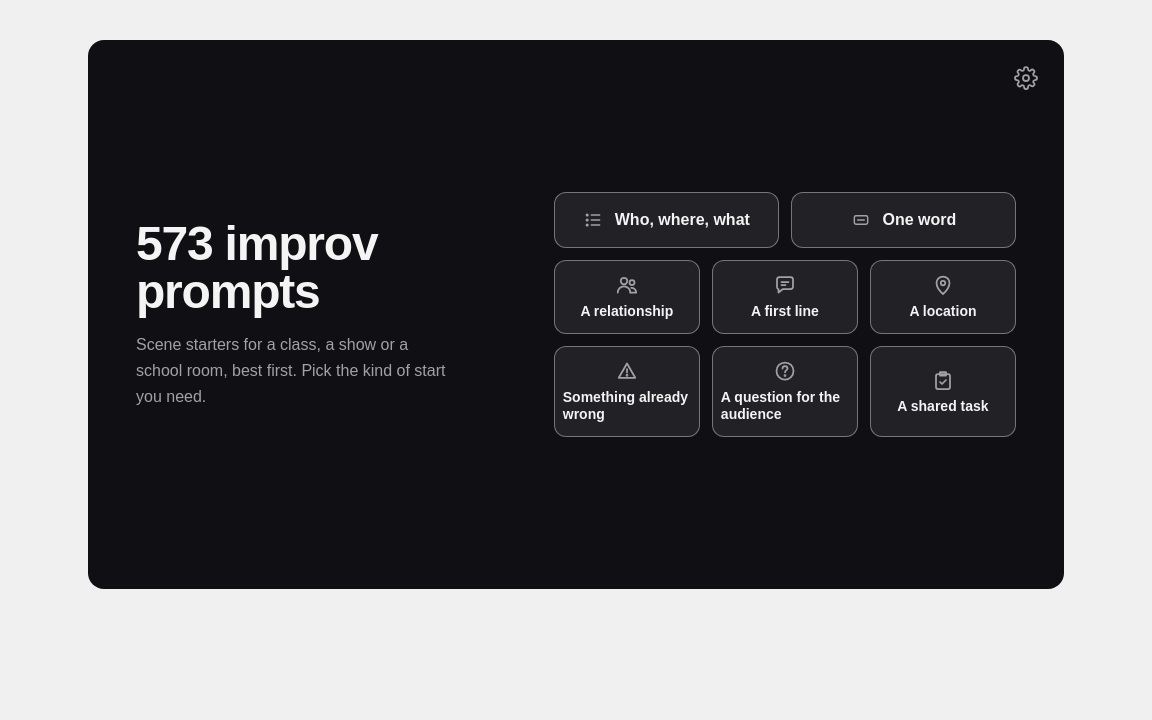
Test case: PromptGenerator › opens the settings from the cog, and Done goes back to the question or the card
Click the button named "Settings".
click(1026, 78)  # box [1004,56,1048,100]
(page scrolled)
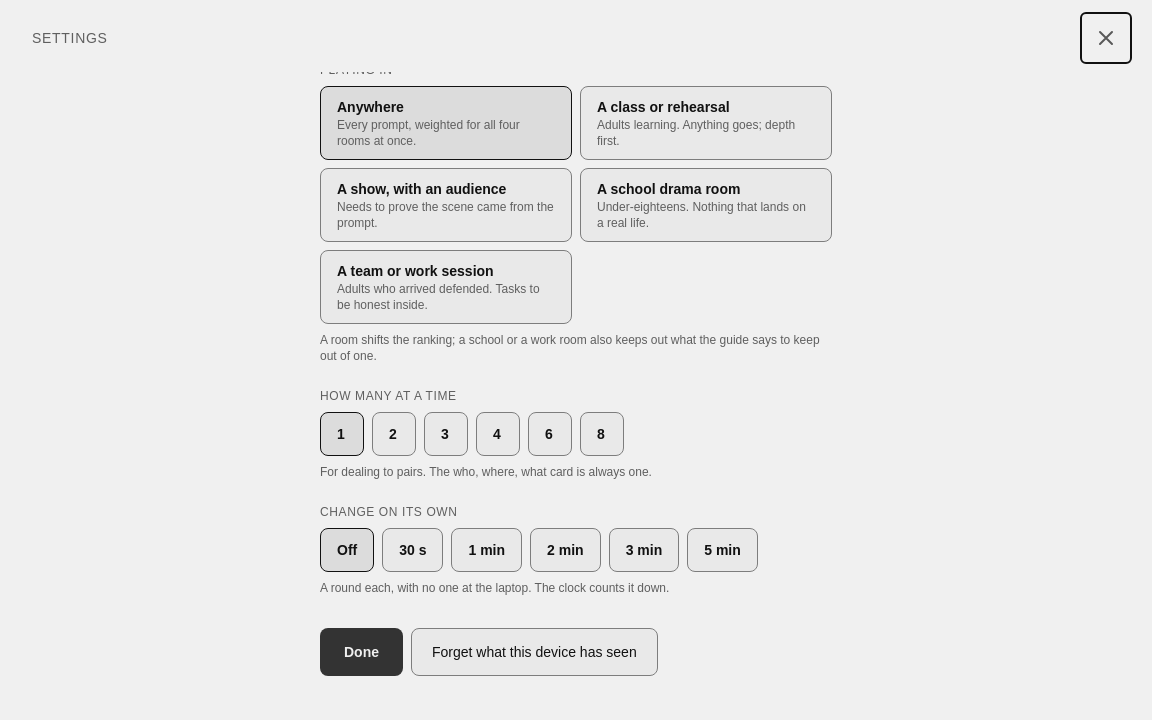
Now the element with test id "prompt-settings" is shown, box [320,72,832,700]
Now the button "Anywhere Every prompt, weighted for all four rooms at once." is shown, box [320,86,572,160]
Now the button "A class or rehearsal" is shown, box [580,86,832,160]
Click the button "Done".
click(362, 652)  # box [320,628,403,676]
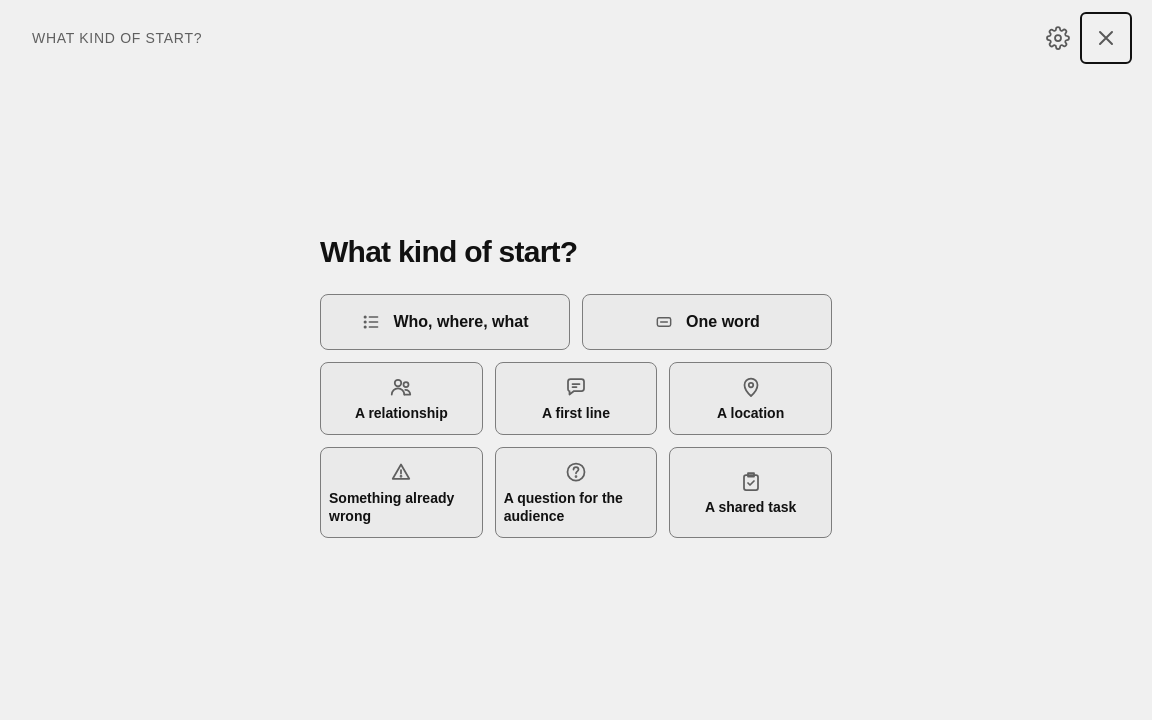
Now the heading "What kind of start?" is shown, box [320,235,577,268]
Click the button "A relationship".
click(401, 399)  # box [320,362,483,435]
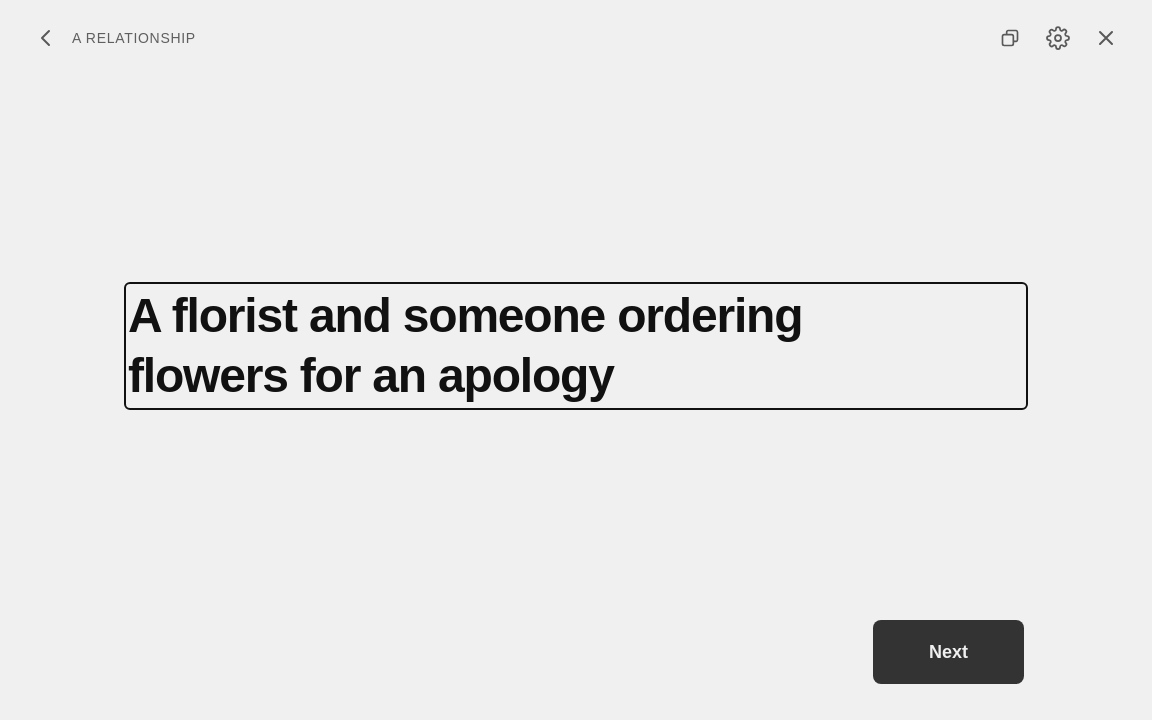
Click the button named "Settings".
click(1058, 38)  # box [1036,16,1080,60]
(page scrolled)
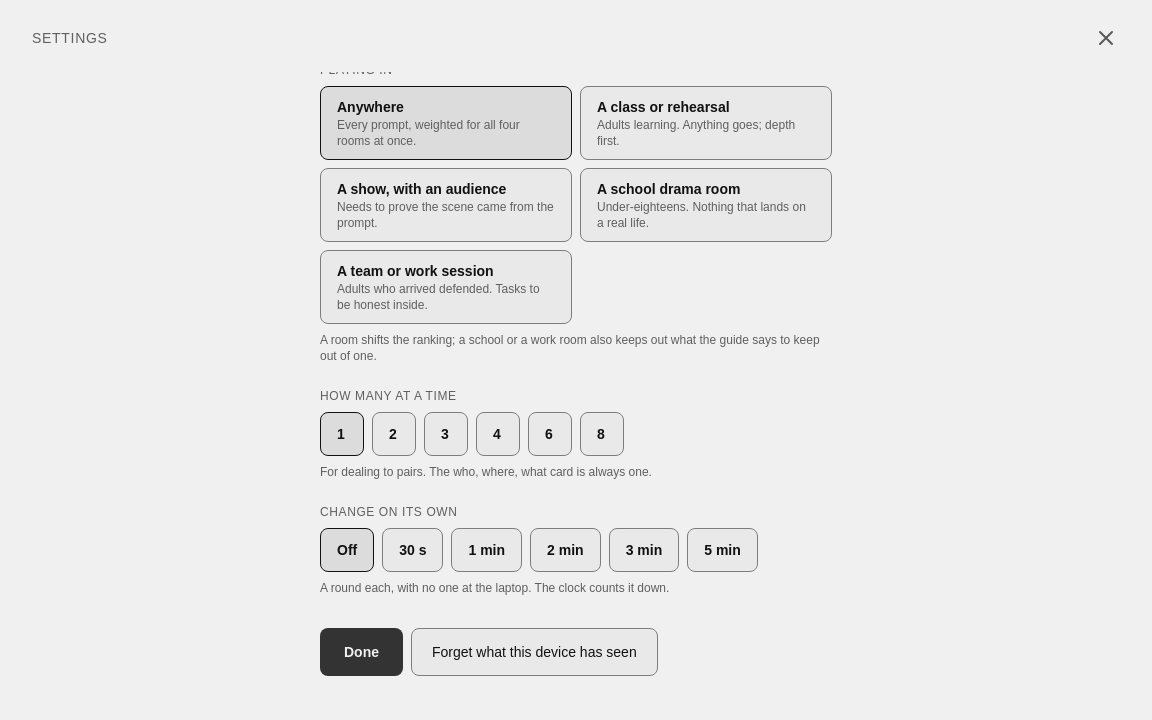
Click the button "Done".
click(362, 652)  # box [320,628,403,676]
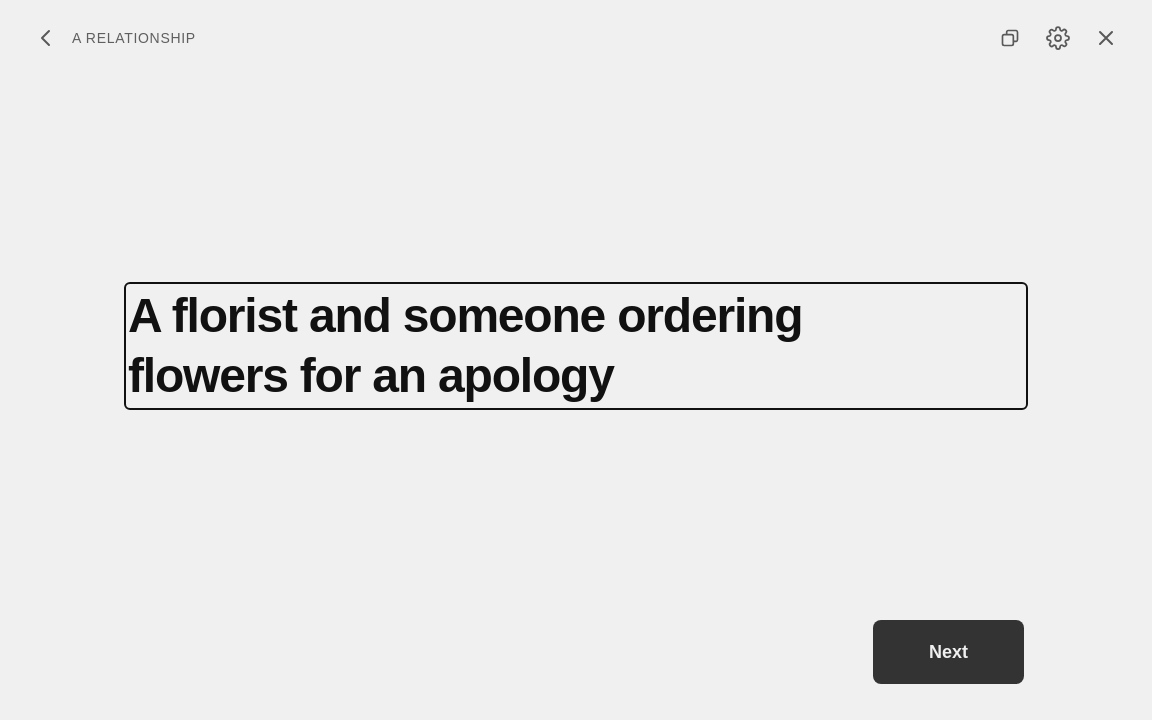
Now the text with test id "prompt-text" reads "A florist and someone ordering flowers for an apology", box [128,289,802,402]
